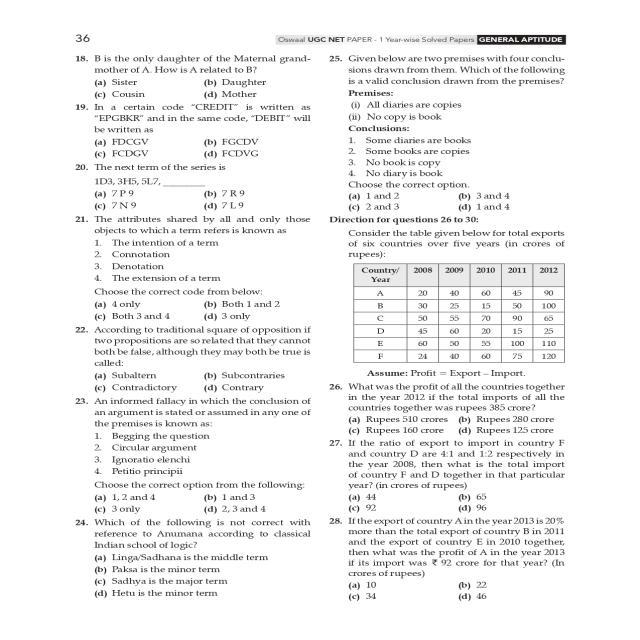Answer_Block: (12, 553, 326, 604), (14, 186, 328, 216), (326, 180, 606, 212), (14, 488, 328, 516), (11, 296, 325, 322), (11, 135, 325, 160), (12, 78, 326, 102), (12, 368, 326, 392), (326, 491, 606, 514), (327, 580, 607, 601)
Instruction: (326, 214, 606, 366)
Question_Answer_Block: (326, 52, 606, 212), (326, 368, 606, 514), (14, 394, 328, 516), (11, 213, 325, 323), (12, 515, 326, 604), (327, 516, 607, 602), (12, 322, 326, 392), (11, 102, 325, 160), (14, 160, 328, 217), (12, 46, 326, 102)
Question_Block: (326, 52, 606, 180), (326, 368, 606, 492), (12, 389, 326, 486), (9, 210, 323, 296), (327, 516, 607, 580), (12, 322, 326, 368), (12, 516, 326, 552), (11, 102, 325, 136), (12, 46, 326, 76), (12, 156, 326, 182)
Question_Paper_Area: (12, 48, 326, 621), (326, 49, 606, 619)
